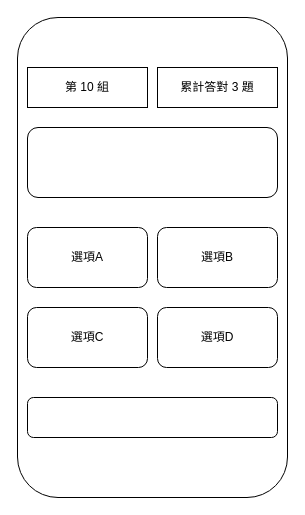
This 305x515 diagram has some shape labels left out. Here are the shapes that lost their labels. From the top down, the centre of each, then its label:
At [152,162]: "題目說明".
At [152,417]: "確定送出".
